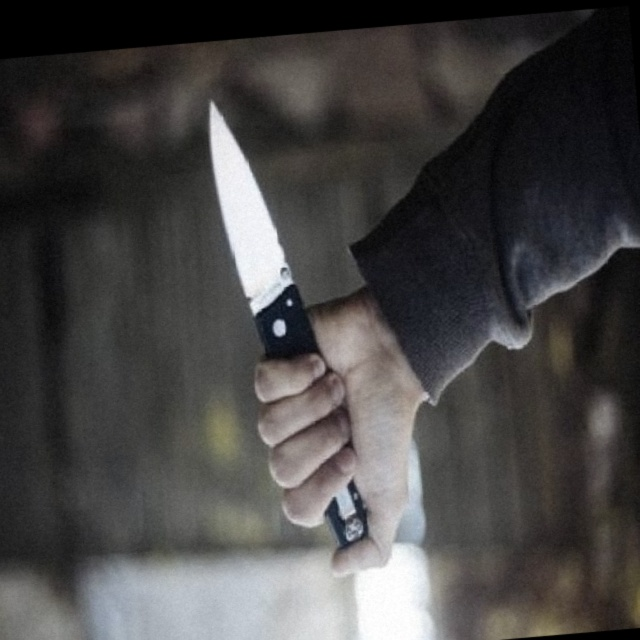Sharp-Object: (204, 91, 370, 557)
